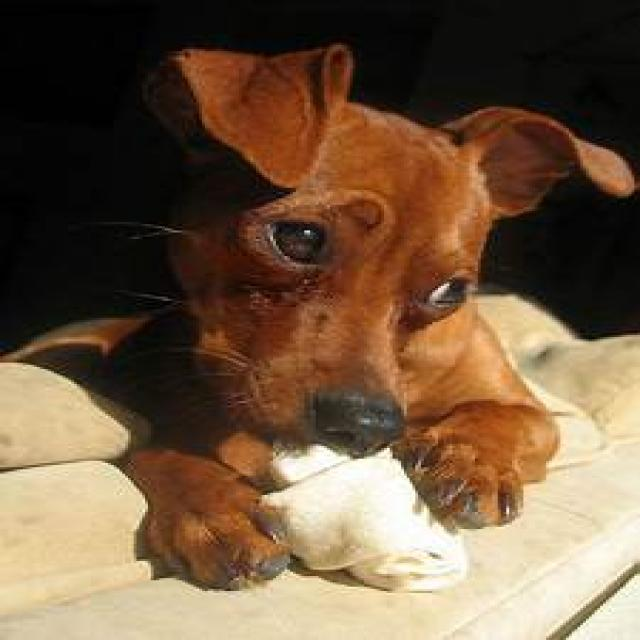dog: (22, 44, 635, 588)
